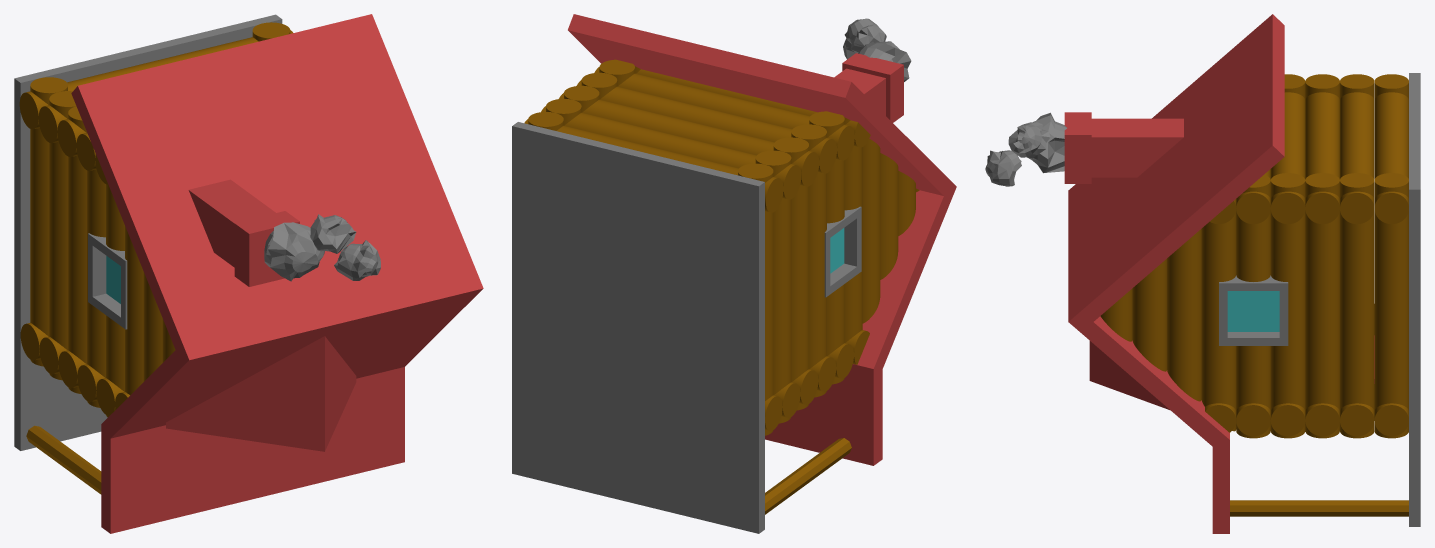
The model's file is log cabin.fbx.
3 renders of one model, left to right at view 1: azimuth 30°, elevation 25°; view 2: azimuth 150°, elevation 25°; view 3: azimuth 270°, elevation 25°, orthographic. The views are drawn at different scales.
Visible parts, largest first — view 1: house wood, chimney, smoke, window, glass; view 2: house wood, chimney, window, smoke, glass; view 3: house wood, chimney, smoke, window, glass.
Boxes of the visible parts, x1,y1,x2,y2 form: house wood: [14, 14, 483, 533]; chimney: [188, 179, 299, 286]; smoke: [264, 214, 380, 281]; window: [88, 233, 127, 329]; glass: [106, 256, 120, 303]; house wood: [512, 14, 956, 533]; chimney: [834, 53, 903, 122]; window: [824, 206, 861, 297]; smoke: [843, 18, 911, 81]; glass: [830, 228, 844, 273]; house wood: [1068, 14, 1420, 533]; chimney: [1064, 112, 1183, 183]; smoke: [985, 112, 1066, 186]; window: [1219, 275, 1288, 345]; glass: [1227, 291, 1279, 331].
Size of the model in its own units: 9 by 12.4 by 12.59.
